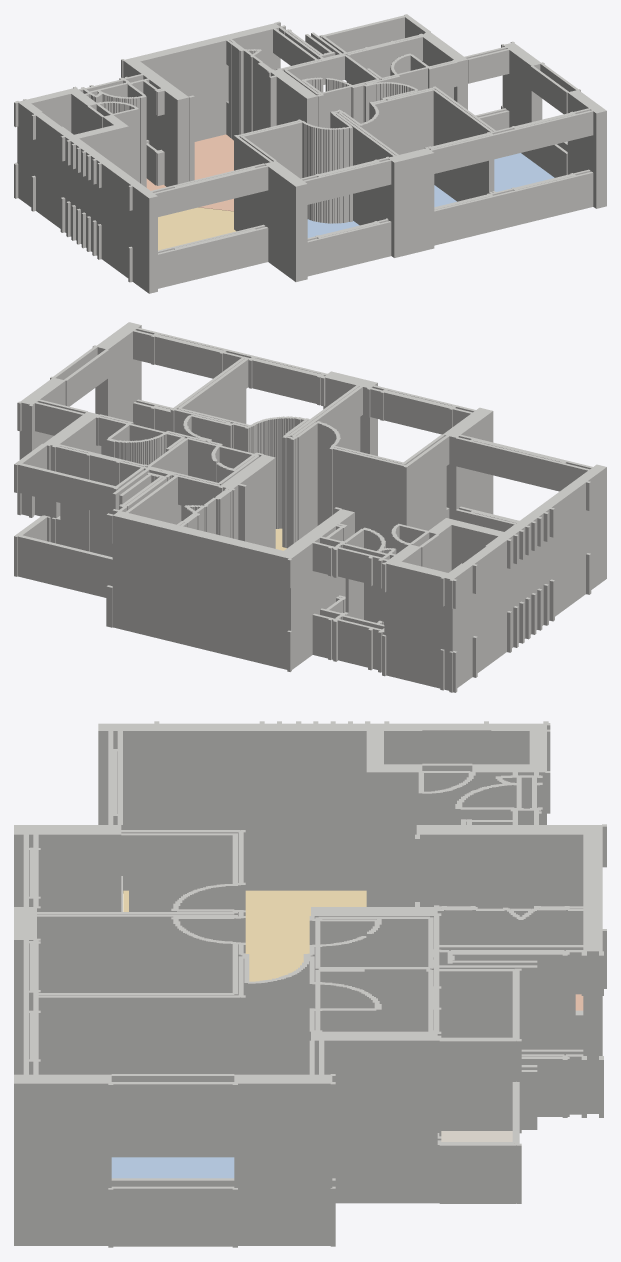
The picture shows the model from 3 angles, top to bottom: view 1: azimuth 30°, elevation 25°; view 2: azimuth 150°, elevation 25°; view 3: azimuth 270°, elevation 25°; orthographic projection. The views are drawn at different scales.
Parts seen in each view (by area): view 1: walls, room:living:2, room:kitchen:0, room:bedroom:8, room:bedroom:6; view 2: walls; view 3: walls, room:living:2, room:bedroom:8, room:other:11.
Part boxes in pixels (x1,y1,x2,y2): walls: [14, 14, 606, 293]; room:living:2: [158, 207, 235, 250]; room:kitchen:0: [146, 134, 233, 211]; room:bedroom:8: [494, 153, 554, 191]; room:bedroom:6: [307, 219, 359, 237]; walls: [14, 322, 606, 692]; walls: [14, 721, 606, 1247]; room:living:2: [123, 890, 366, 981]; room:bedroom:8: [111, 1157, 234, 1178]; room:other:11: [441, 1131, 512, 1141].
Size of the model in its own units: 13.43 by 2.8 by 9.26.
